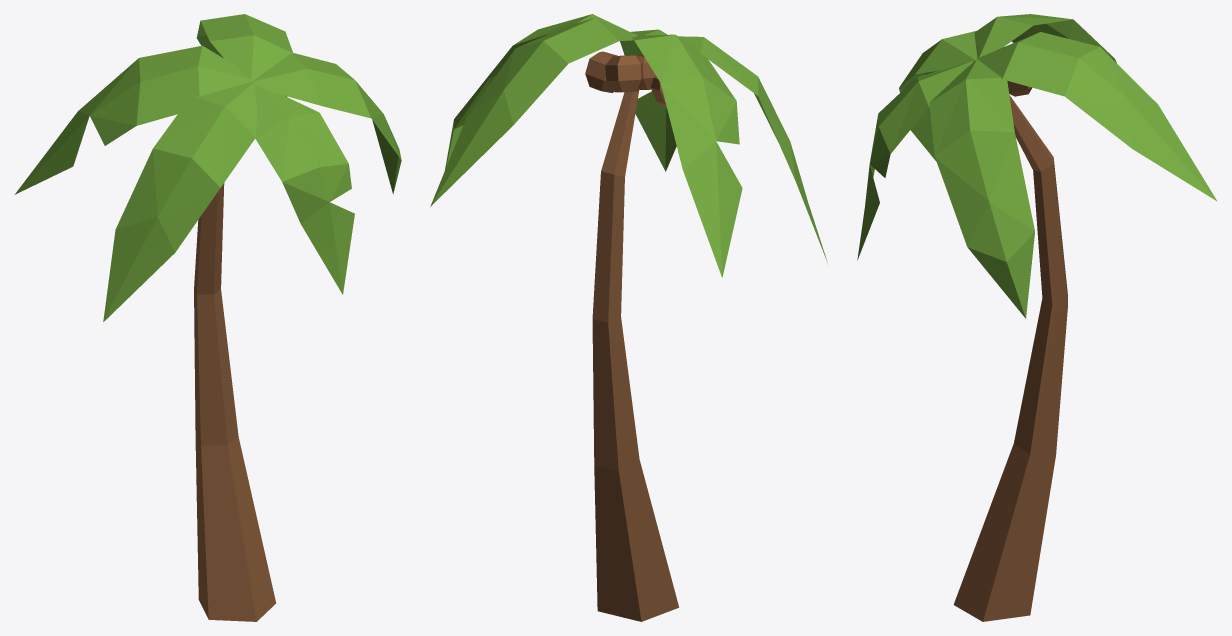
File: nature_palm-big.fbx
3 renders of one model, left to right at view 1: azimuth 30°, elevation 25°; view 2: azimuth 150°, elevation 25°; view 3: azimuth 270°, elevation 25°, orthographic. The views are drawn at different scales.
Parts seen in each view (by area): view 1: nature_palm_big; view 2: nature_palm_big; view 3: nature_palm_big.
Part boxes in pixels (x1=…): nature_palm_big: x1=14, y1=14, x2=401, y2=621; nature_palm_big: x1=430, y1=14, x2=827, y2=621; nature_palm_big: x1=857, y1=14, x2=1217, y2=621.
Size of the model in its own units: 124 by 200 by 113.
